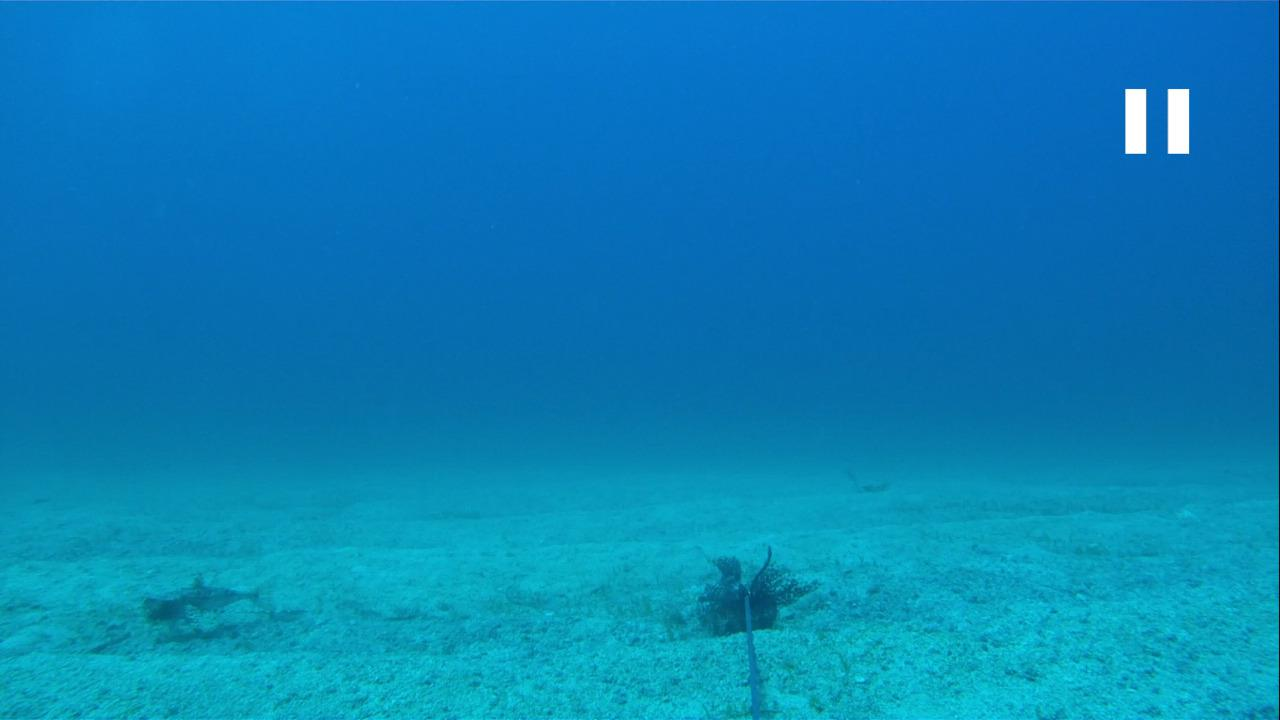dactylopterus: (131, 568, 277, 638)
